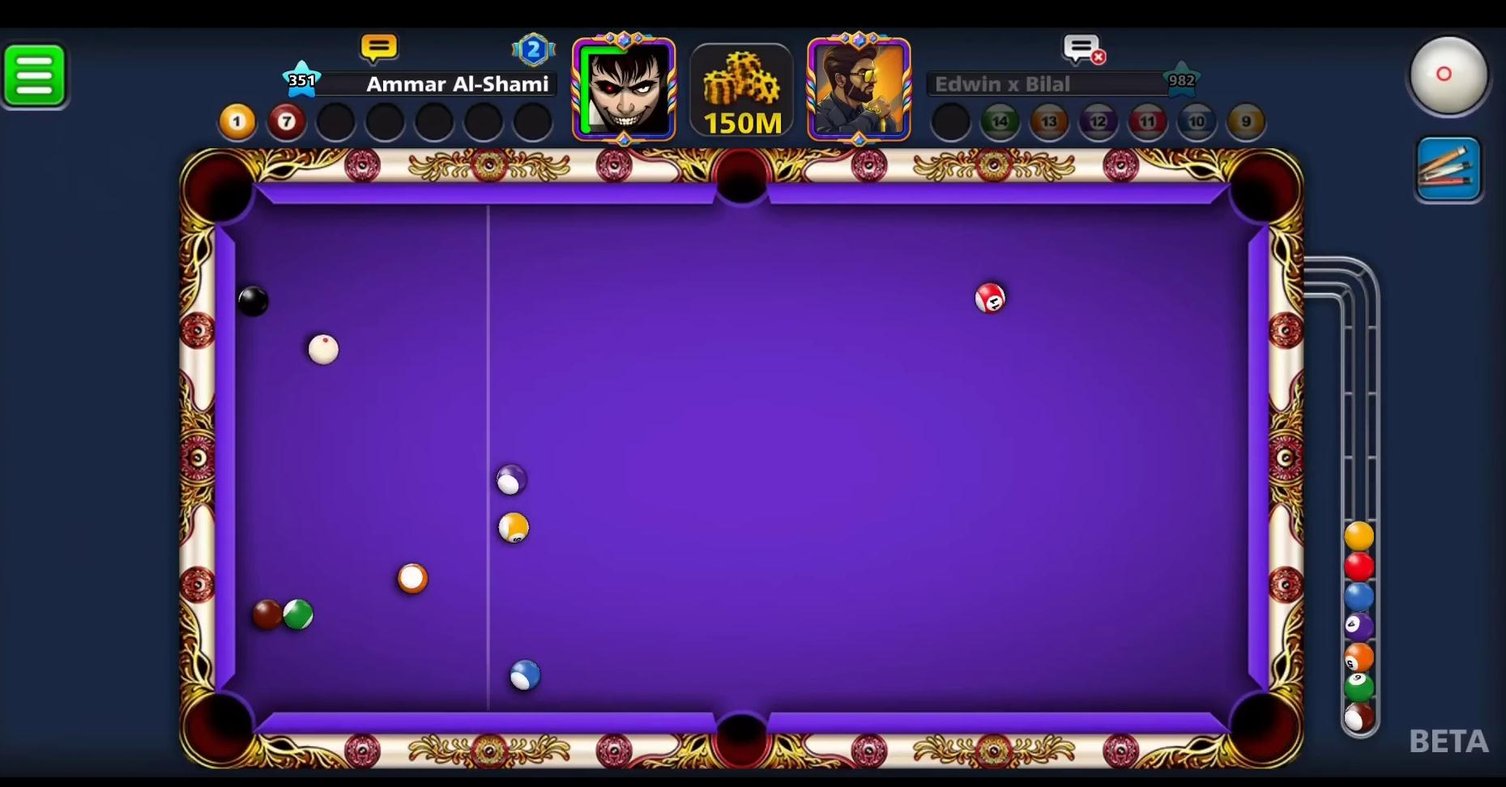Ball: (496, 652, 547, 700), (229, 282, 282, 322), (489, 456, 535, 500), (971, 276, 1011, 324), (247, 598, 292, 638), (396, 565, 438, 606), (495, 510, 538, 546), (275, 599, 321, 632)
Hole: (171, 137, 273, 244), (1206, 666, 1308, 772), (166, 681, 274, 774), (696, 684, 789, 773), (1219, 145, 1310, 235), (698, 141, 783, 222)
Play_Area: (238, 206, 1251, 713)
Spin: (1396, 23, 1496, 135)
White: (300, 332, 352, 370)
